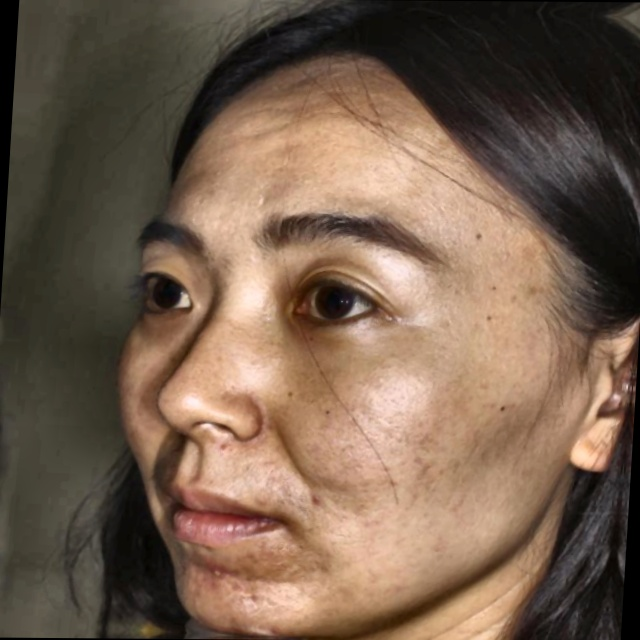comedone: (200, 556, 236, 593)
